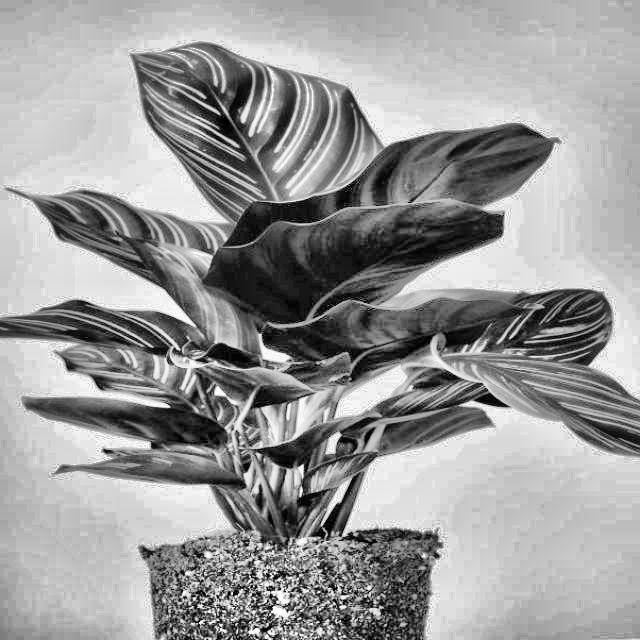plants: (39, 52, 510, 540)
